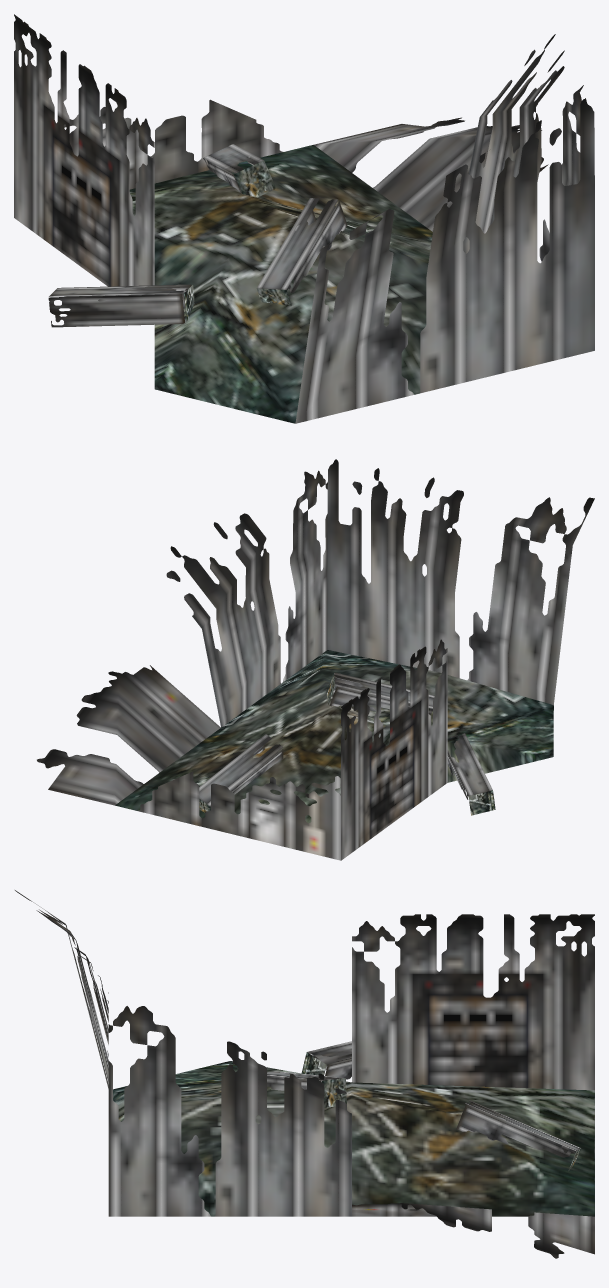
Rendered from factorymd_dam.glb.
The picture shows the model from 3 angles, top to bottom: view 1: azimuth 30°, elevation 25°; view 2: azimuth 150°, elevation 25°; view 3: azimuth 270°, elevation 25°; orthographic projection. The views are drawn at different scales.
Parts seen in each view (by area): view 1: Object01; view 2: Object01; view 3: Object01.
Boxes of the visible parts, bbox=[...] form: Object01: bbox=[14, 14, 594, 423]; Object01: bbox=[37, 459, 594, 860]; Object01: bbox=[15, 890, 594, 1258].
Size of the model in its own units: 26.69 by 13.19 by 30.12.
Materials: 2 (2 with a texture image).
